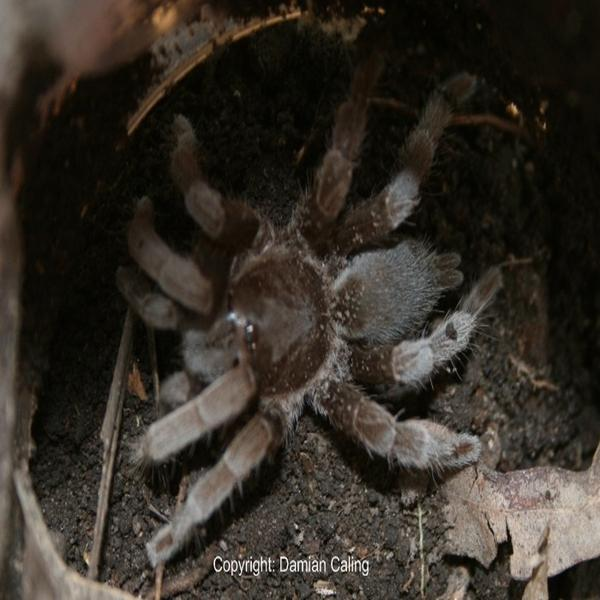Tarantula_Spider: (118, 49, 504, 568)
